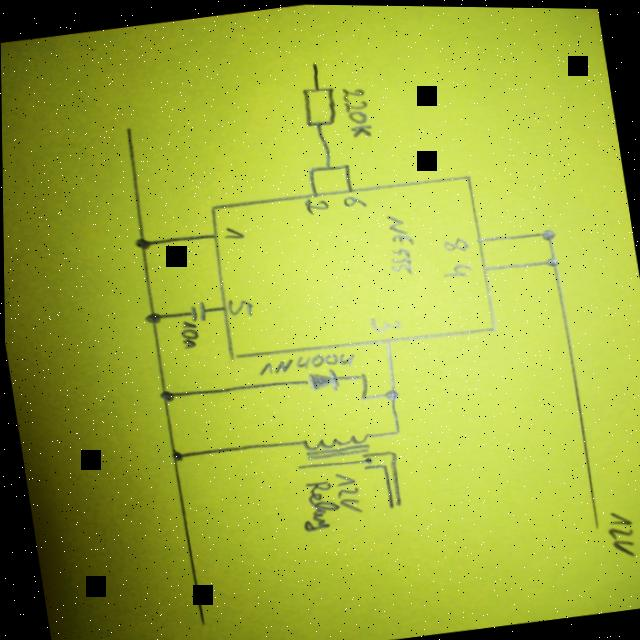capacitor: (187, 299, 208, 321)
diode: (303, 365, 342, 394)
junction: (143, 308, 165, 325), (132, 234, 153, 251), (539, 224, 559, 240), (156, 387, 176, 403), (381, 385, 401, 400), (545, 251, 562, 267), (168, 446, 184, 462), (386, 445, 399, 458), (390, 423, 403, 435), (358, 390, 371, 401), (324, 160, 337, 171), (304, 161, 317, 172), (357, 368, 368, 379), (342, 159, 353, 169), (377, 460, 389, 468)
resistor: (296, 80, 340, 129)
terminal: (122, 122, 136, 136), (589, 518, 603, 531), (195, 616, 208, 628), (292, 460, 304, 472), (308, 57, 322, 67), (393, 496, 404, 506), (385, 499, 394, 511)
text: (256, 346, 357, 378), (382, 209, 421, 275), (296, 477, 342, 530), (341, 83, 375, 138), (602, 504, 637, 556), (332, 468, 362, 514), (368, 310, 403, 333), (440, 258, 475, 278), (178, 318, 201, 348), (226, 295, 255, 318), (441, 231, 472, 251), (303, 192, 331, 214), (342, 189, 368, 209), (221, 223, 247, 240)
